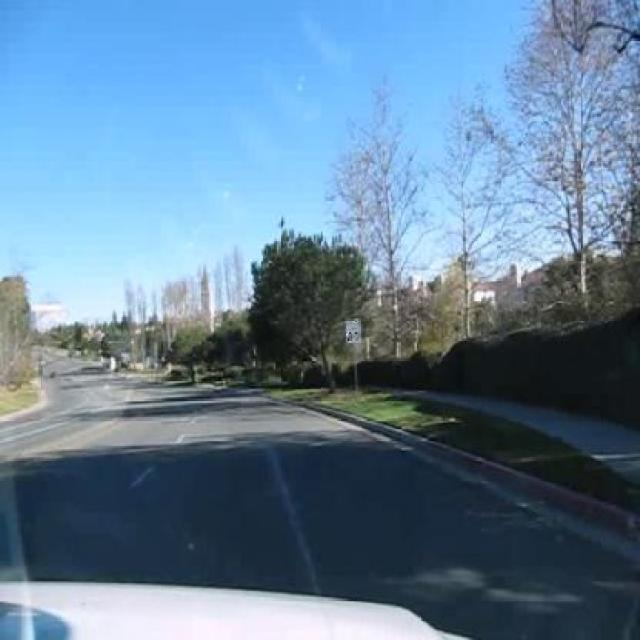speedLimit40: (344, 317, 360, 344)
